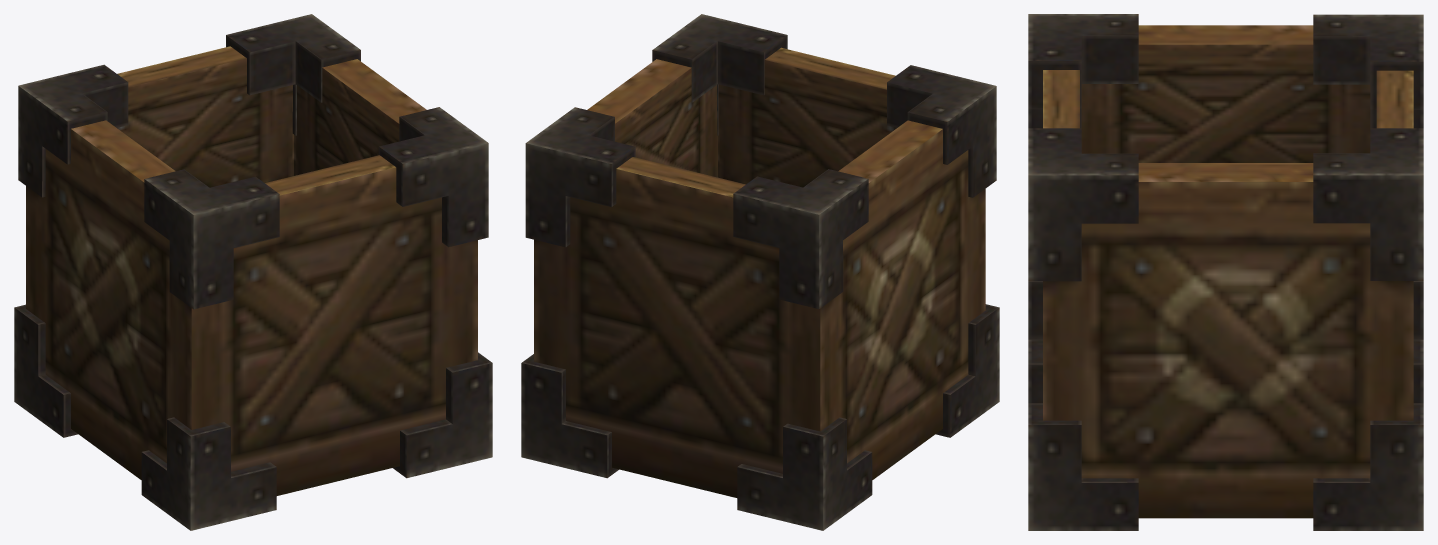
Rendered from lumina_wuqijia_05.FBX.
The picture shows the model from 3 angles, left to right: view 1: azimuth 30°, elevation 25°; view 2: azimuth 150°, elevation 25°; view 3: azimuth 270°, elevation 25°; orthographic projection. The views are drawn at different scales.
Visible parts, largest first — view 1: lumina_wuqijia_05; view 2: lumina_wuqijia_05; view 3: lumina_wuqijia_05.
Boxes of the visible parts, box(x1,y1,x2,y2) form: lumina_wuqijia_05: box(14, 14, 492, 530); lumina_wuqijia_05: box(521, 14, 999, 530); lumina_wuqijia_05: box(1028, 14, 1423, 530).
Size of the model in its own units: 0.8428 by 0.8411 by 0.8532.
